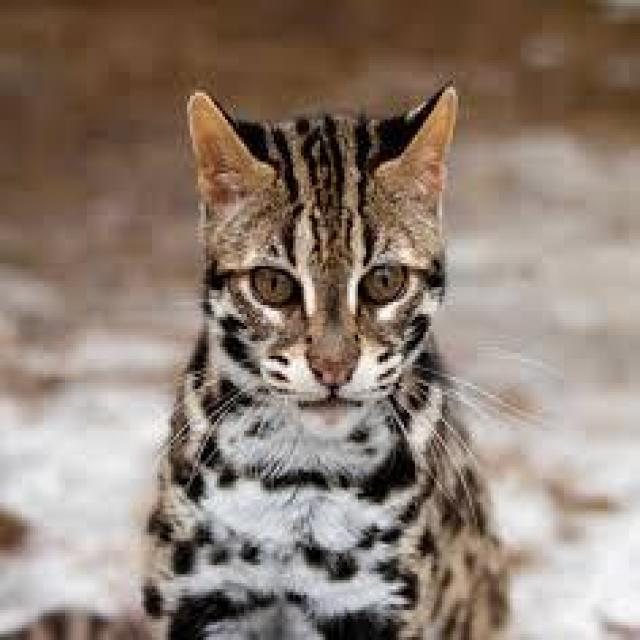leopard: (130, 85, 500, 626)
